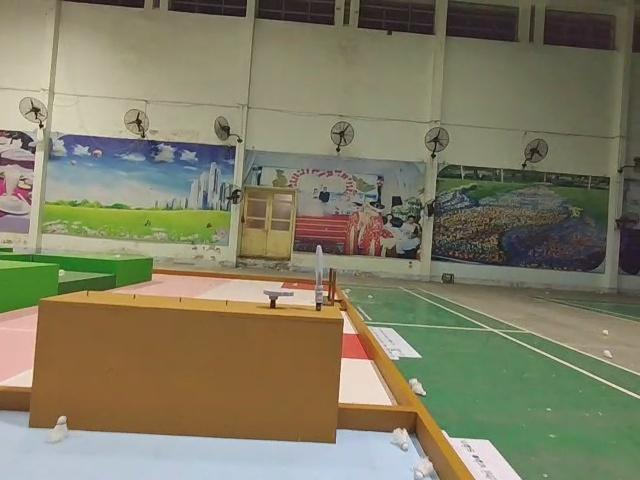Hand: (262, 284, 295, 309)
Sph: (315, 245, 324, 313)
